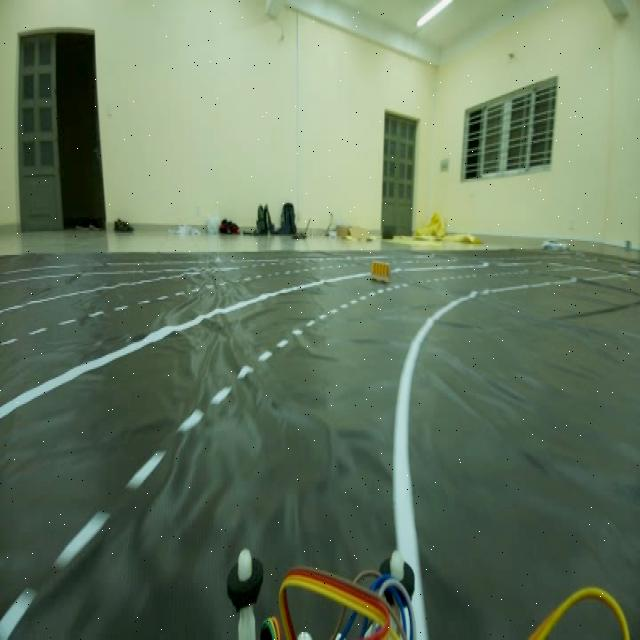roadblock: (367, 256, 392, 283)
